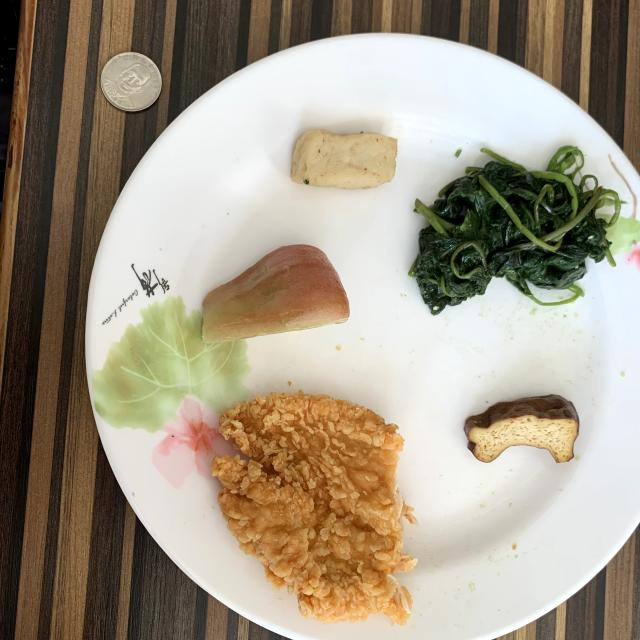coin: (100, 52, 161, 111)
creamy tofu -without sauce-: (291, 130, 398, 189)
firm tofu: (464, 395, 579, 462)
fried chicken cutlet: (211, 392, 416, 625)
sweet potato leaves: (410, 145, 621, 314)
